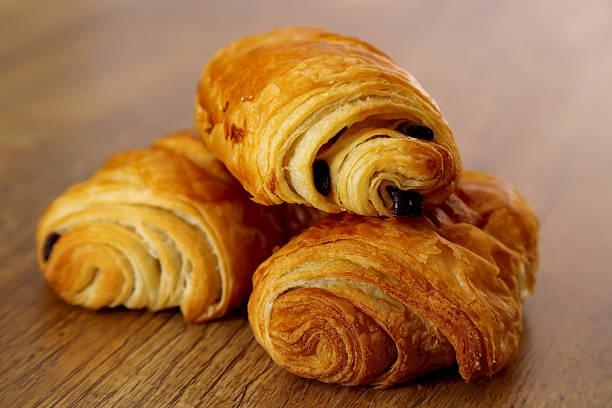pain au chocolat: (242, 177, 545, 391), (195, 17, 464, 222), (33, 123, 249, 326)
